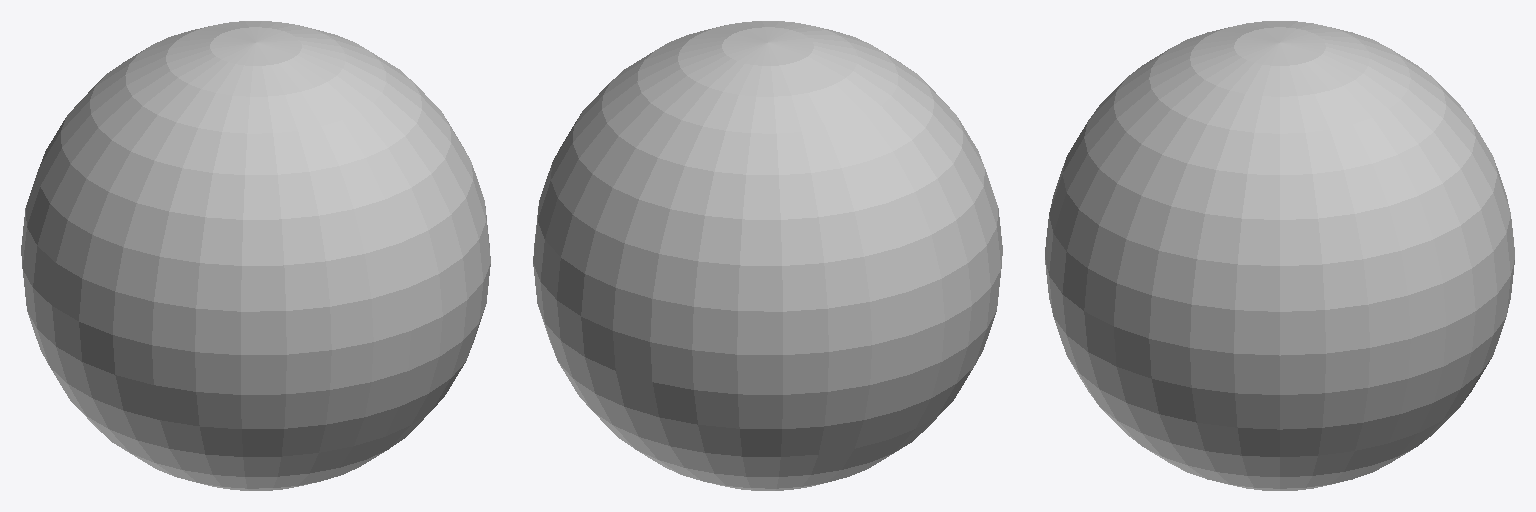
File: skydome.obj
The picture shows the model from 3 angles: view 1: azimuth 30°, elevation 25°; view 2: azimuth 150°, elevation 25°; view 3: azimuth 270°, elevation 25°; orthographic projection.
Parts seen in each view (by area): view 1: 球; view 2: 球; view 3: 球.
Part boxes in pixels (x1,y1,x2,y2): 球: (21, 21, 490, 490); 球: (533, 21, 1002, 490); 球: (1045, 21, 1514, 490).
Bounding box in the file's own units: 600 × 600 × 600.